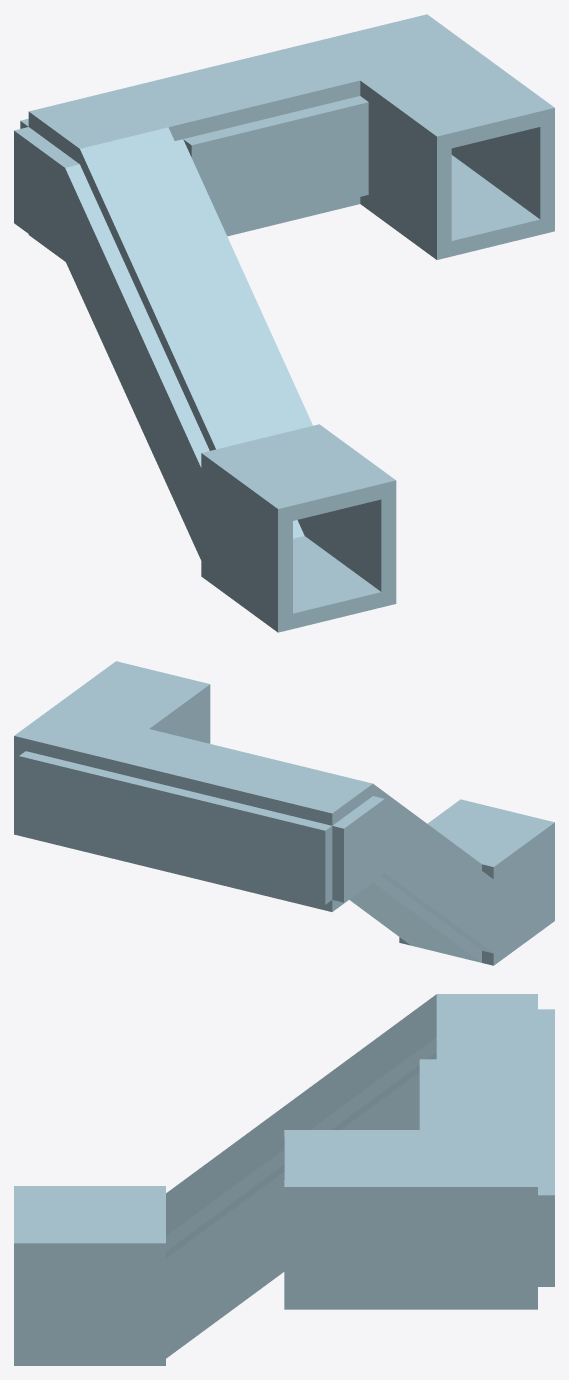
The model's file is stairs_up.obj.
3 renders of one model, top to bottom at view 1: azimuth 30°, elevation 25°; view 2: azimuth 150°, elevation 25°; view 3: azimuth 270°, elevation 25°, orthographic. The views are drawn at different scales.
Visible parts, largest first — view 1: plane, cuboid; view 2: plane, cuboid; view 3: plane, cuboid.
Boxes of the visible parts, x1,y1,x2,y2 form: plane: [14, 14, 554, 632]; cuboid: [65, 127, 312, 560]; plane: [14, 661, 554, 965]; cuboid: [349, 784, 493, 962]; plane: [14, 994, 554, 1365]; cuboid: [166, 994, 436, 1358].
Bounding box in the file's own units: 1.75 × 1.31 × 2.
Materials: 2 (2 with a texture image).
